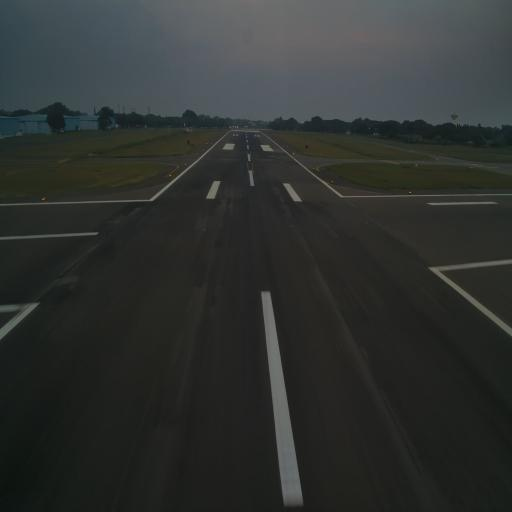on: (408, 186, 414, 196), (40, 195, 46, 204), (330, 177, 335, 187), (168, 172, 171, 180)
